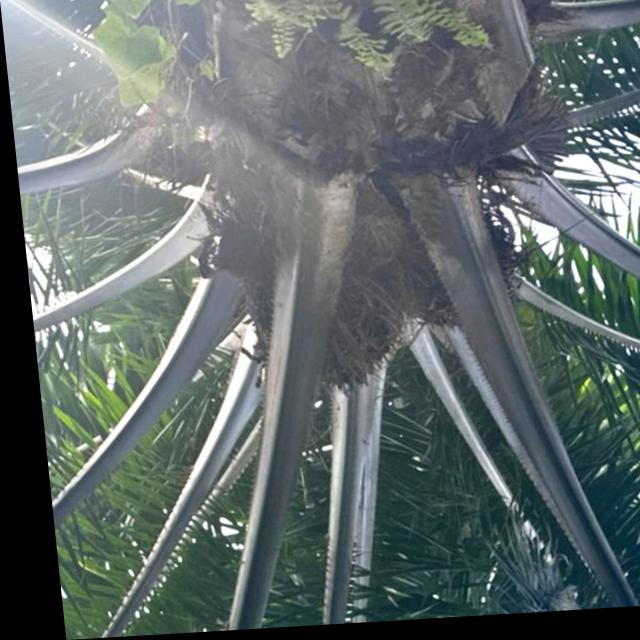unripe: (227, 205, 411, 403)
